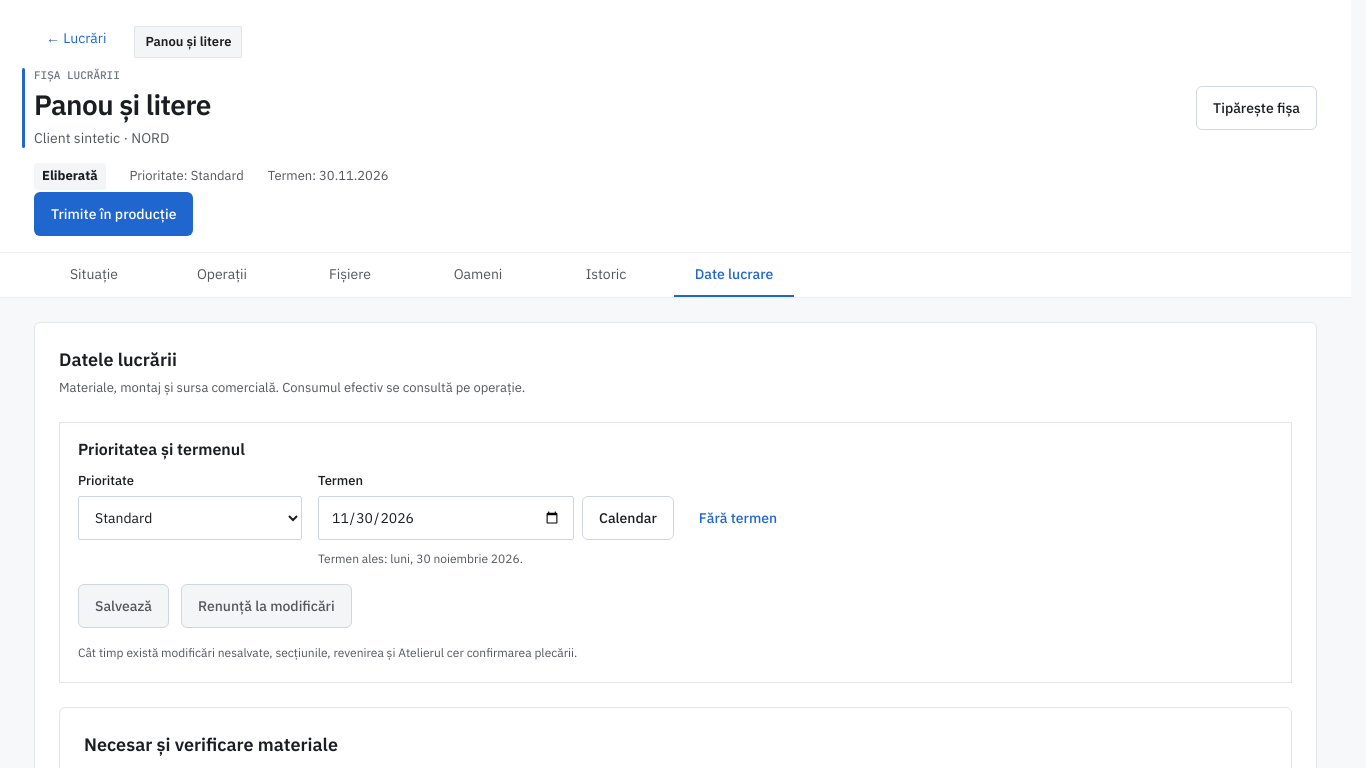
Scenario: job deadline · calendar control (N-022) › a failed save keeps the chosen day and the retry sends it again
Expected: the heading "Panou și litere" is shown, [34, 87, 211, 124]
Type "2026-12-01" into the date field labelled "Termen" at [446, 518], box [318, 496, 574, 540]
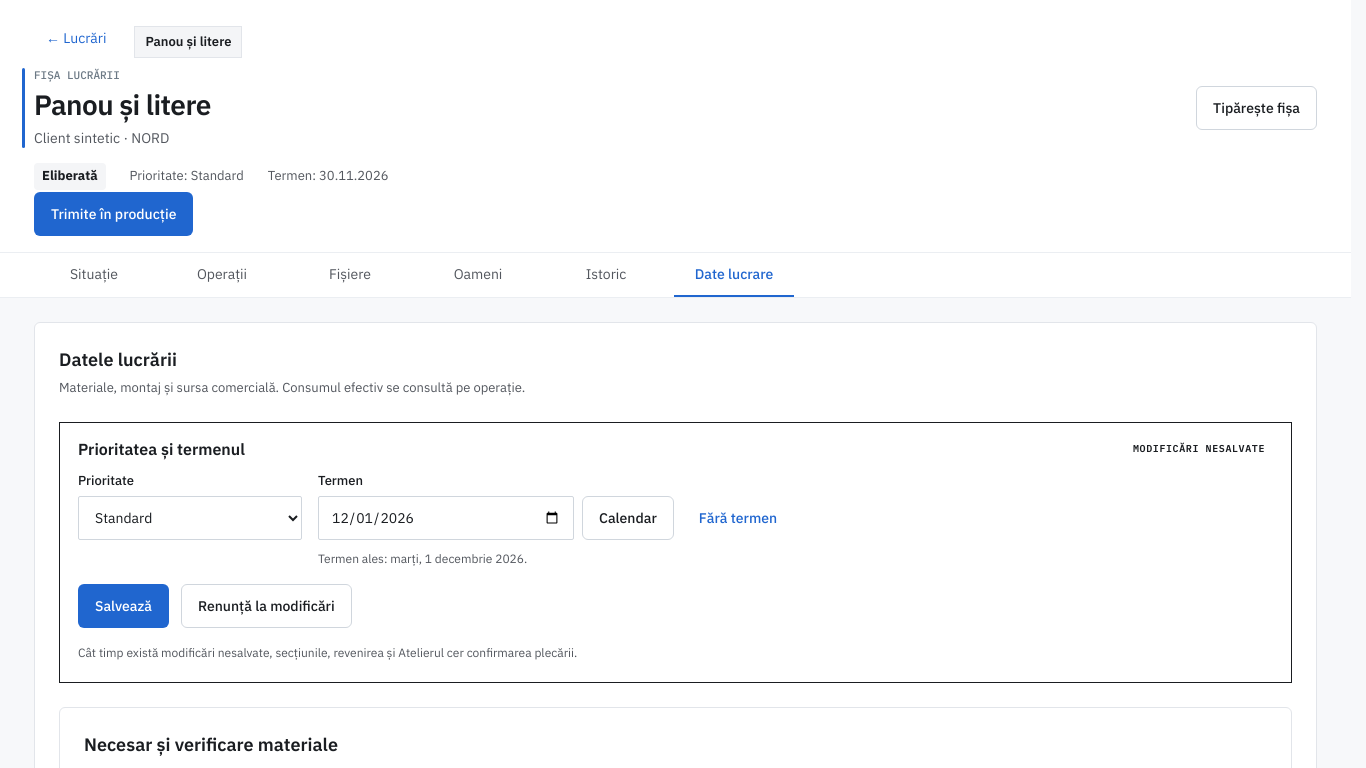
Click the button "Salvează" at [124, 606], box [78, 584, 169, 628]
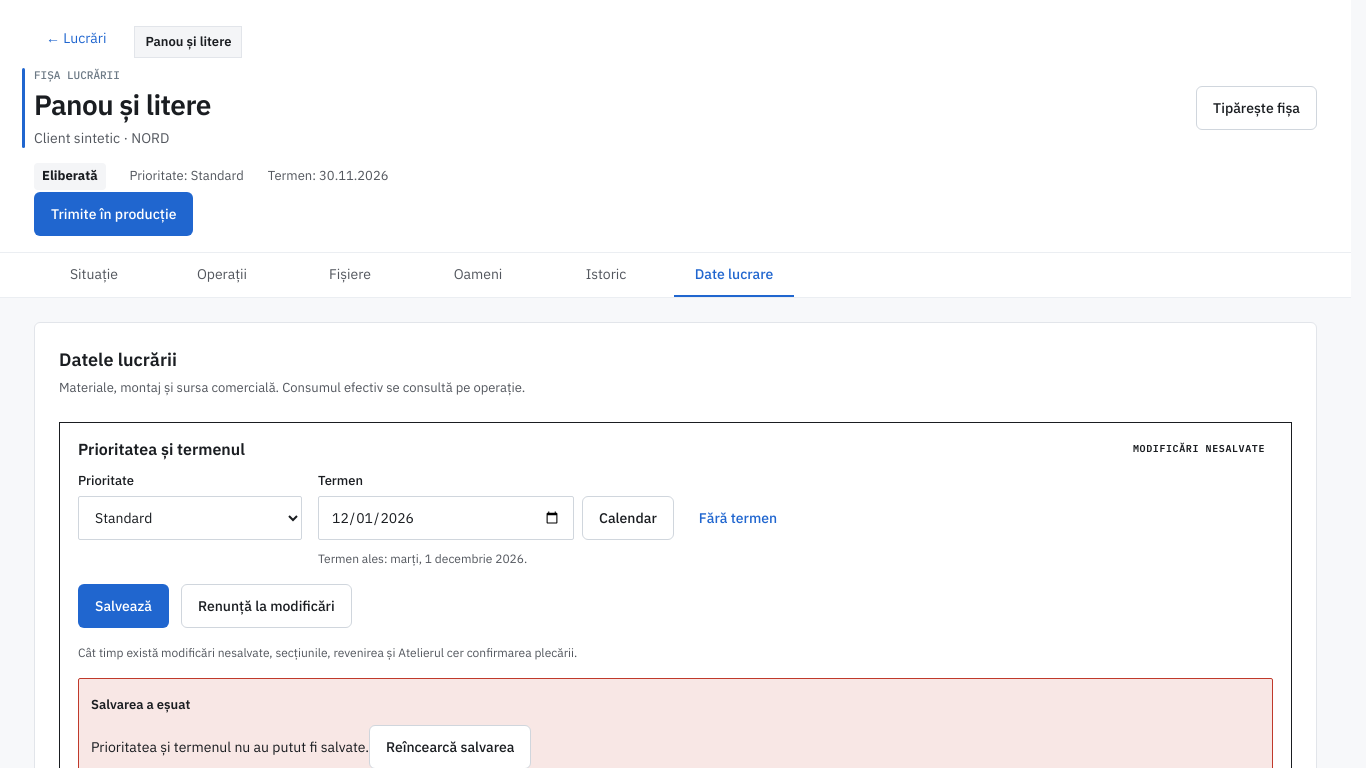
Expected: the text "Termen: 30.11.2026" is shown, [268, 167, 388, 186]
Result: the text "Prioritatea și termenul nu au putut fi salvate." is shown at [91, 738, 369, 756]
Click the button "Reîncearcă salvarea" at [450, 747], box [369, 725, 531, 767]
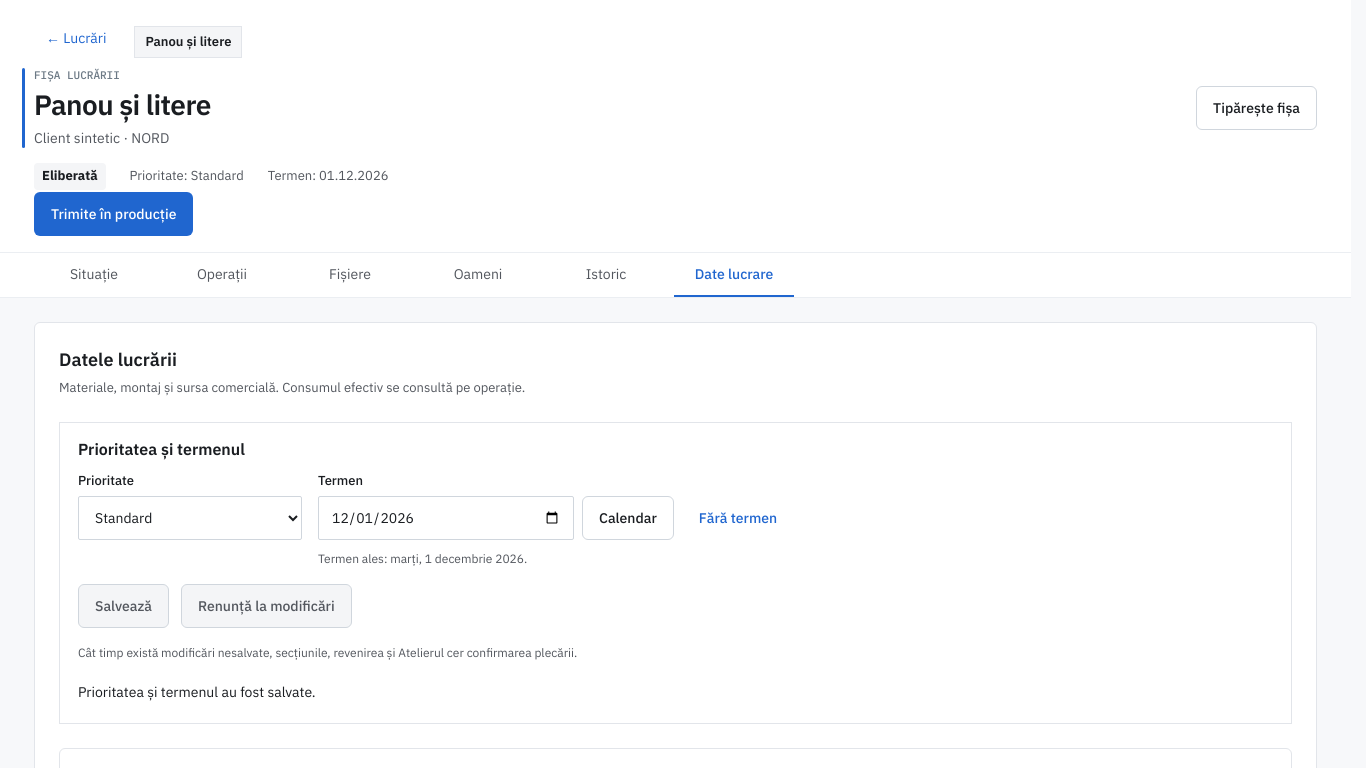
Result: the text "Prioritatea și termenul au fost salvate." is shown at [78, 683, 316, 701]
